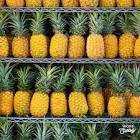Pineapple: (31, 64, 55, 118), (50, 65, 71, 119), (106, 68, 127, 117), (14, 66, 33, 117), (118, 12, 137, 60), (70, 67, 87, 119), (30, 12, 49, 58), (87, 67, 104, 118), (11, 12, 29, 58), (68, 13, 86, 58), (50, 14, 68, 57), (87, 13, 104, 58), (102, 13, 118, 60), (1, 66, 15, 117), (129, 67, 140, 118), (1, 12, 10, 59)
